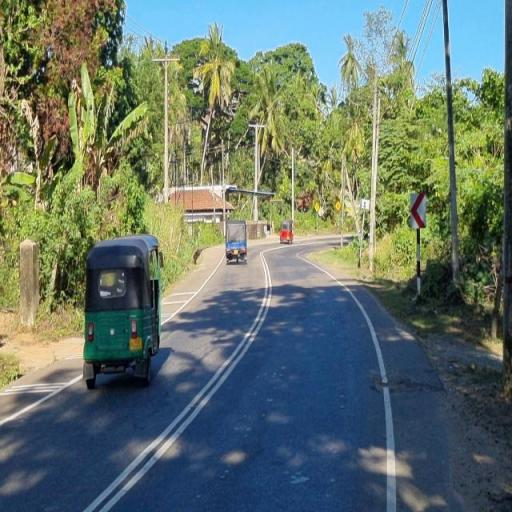double_white_line: (78, 245, 275, 511)
